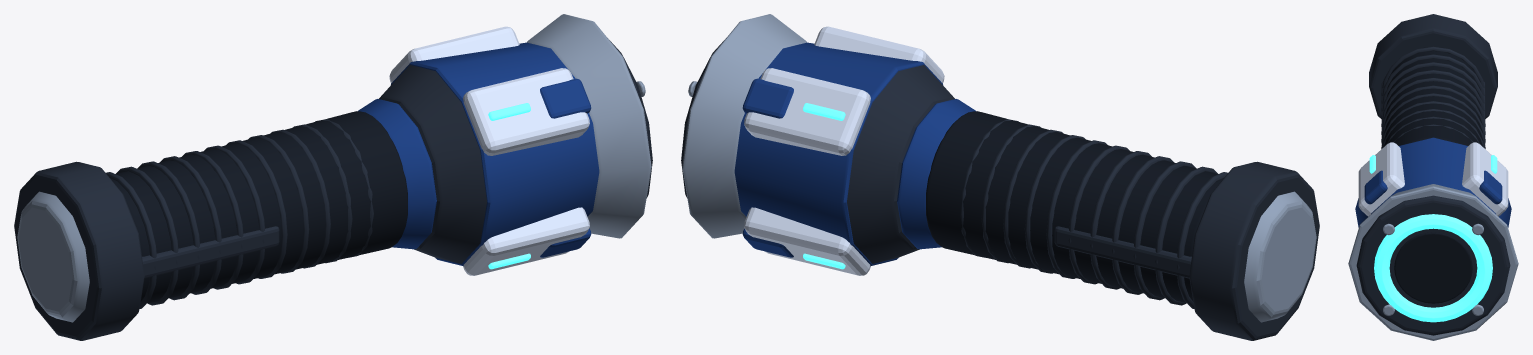
File: rx07_hilt.glb
3 renders of one model, left to right at view 1: azimuth 30°, elevation 25°; view 2: azimuth 150°, elevation 25°; view 3: azimuth 270°, elevation 25°, orthographic. The views are drawn at different scales.
Visible parts, largest first — view 1: Titanium / DLC, Micro-ridged insulated grip, RX cobalt enamel, Brushed titanium bevels, RX ceramic armor, Ion channels; view 2: Titanium / DLC, Micro-ridged insulated grip, RX cobalt enamel, Brushed titanium bevels, RX ceramic armor, Ion channels; view 3: Titanium / DLC, Micro-ridged insulated grip, Ion channels, RX cobalt enamel, Brushed titanium bevels, RX ceramic armor.
Boxes of the visible parts, box(x1,y1,x2,y2) form: Titanium / DLC: box(14, 40, 652, 340); Micro-ridged insulated grip: box(110, 111, 407, 302); RX cobalt enamel: box(358, 42, 599, 265); Brushed titanium bevels: box(17, 14, 651, 322); RX ceramic armor: box(389, 26, 589, 275); Ion channels: box(488, 103, 530, 269); Titanium / DLC: box(681, 40, 1319, 340); Micro-ridged insulated grip: box(926, 111, 1223, 302); RX cobalt enamel: box(734, 42, 975, 265); Brushed titanium bevels: box(682, 14, 1316, 322); RX ceramic armor: box(744, 26, 944, 275); Ion channels: box(803, 103, 845, 269); Titanium / DLC: box(1356, 14, 1510, 335); Micro-ridged insulated grip: box(1383, 47, 1483, 303); Ion channels: box(1369, 155, 1497, 322); RX cobalt enamel: box(1355, 137, 1511, 227); Brushed titanium bevels: box(1348, 184, 1518, 340); RX ceramic armor: box(1358, 142, 1508, 216).
Bounding box in the file's own units: 0.9718 × 0.3428 × 0.3428.
